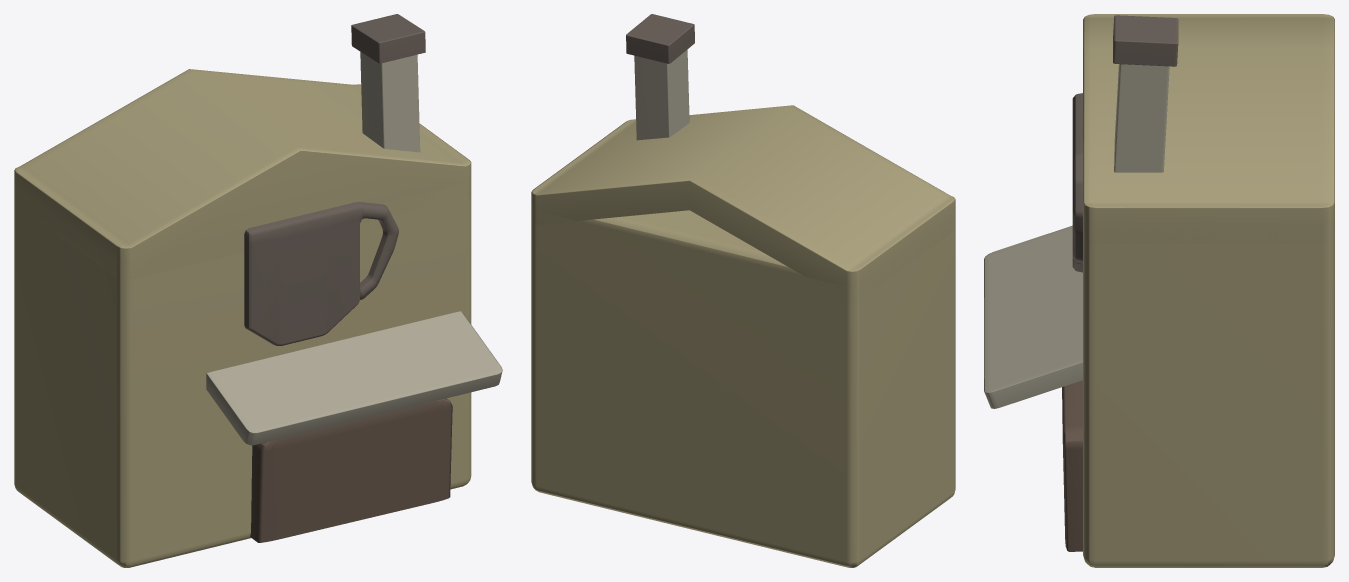
The picture shows the model from 3 angles, left to right: view 1: azimuth 30°, elevation 25°; view 2: azimuth 150°, elevation 25°; view 3: azimuth 270°, elevation 25°; orthographic projection. The views are drawn at different scales.
Visible parts, largest first — view 1: pCube62; view 2: pCube62; view 3: pCube62.
Boxes of the visible parts, left/top/right/bottom form: pCube62: left=14, top=14, right=502, bottom=567; pCube62: left=531, top=14, right=955, bottom=567; pCube62: left=984, top=14, right=1334, bottom=567.
Size of the model in its own units: 53.31 by 65.46 by 40.68.
